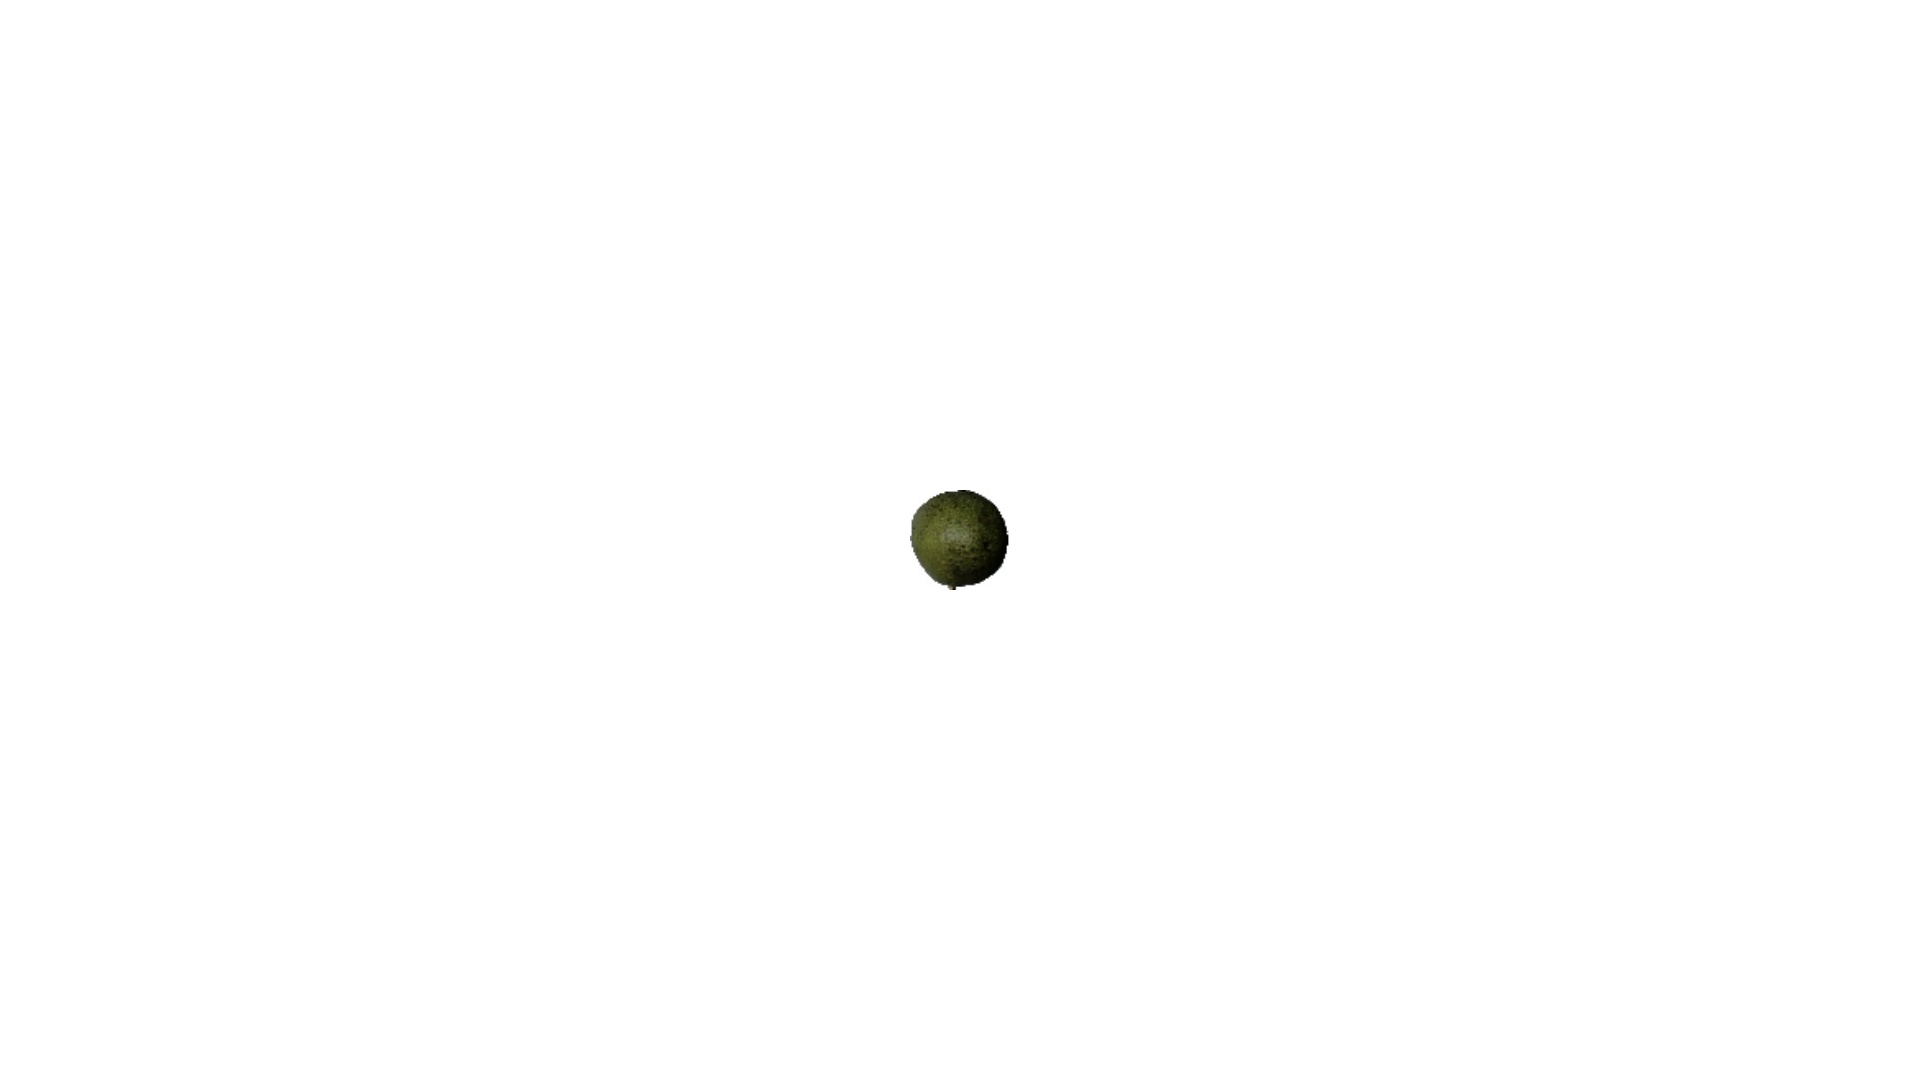abacate: (909, 488, 1011, 592)
